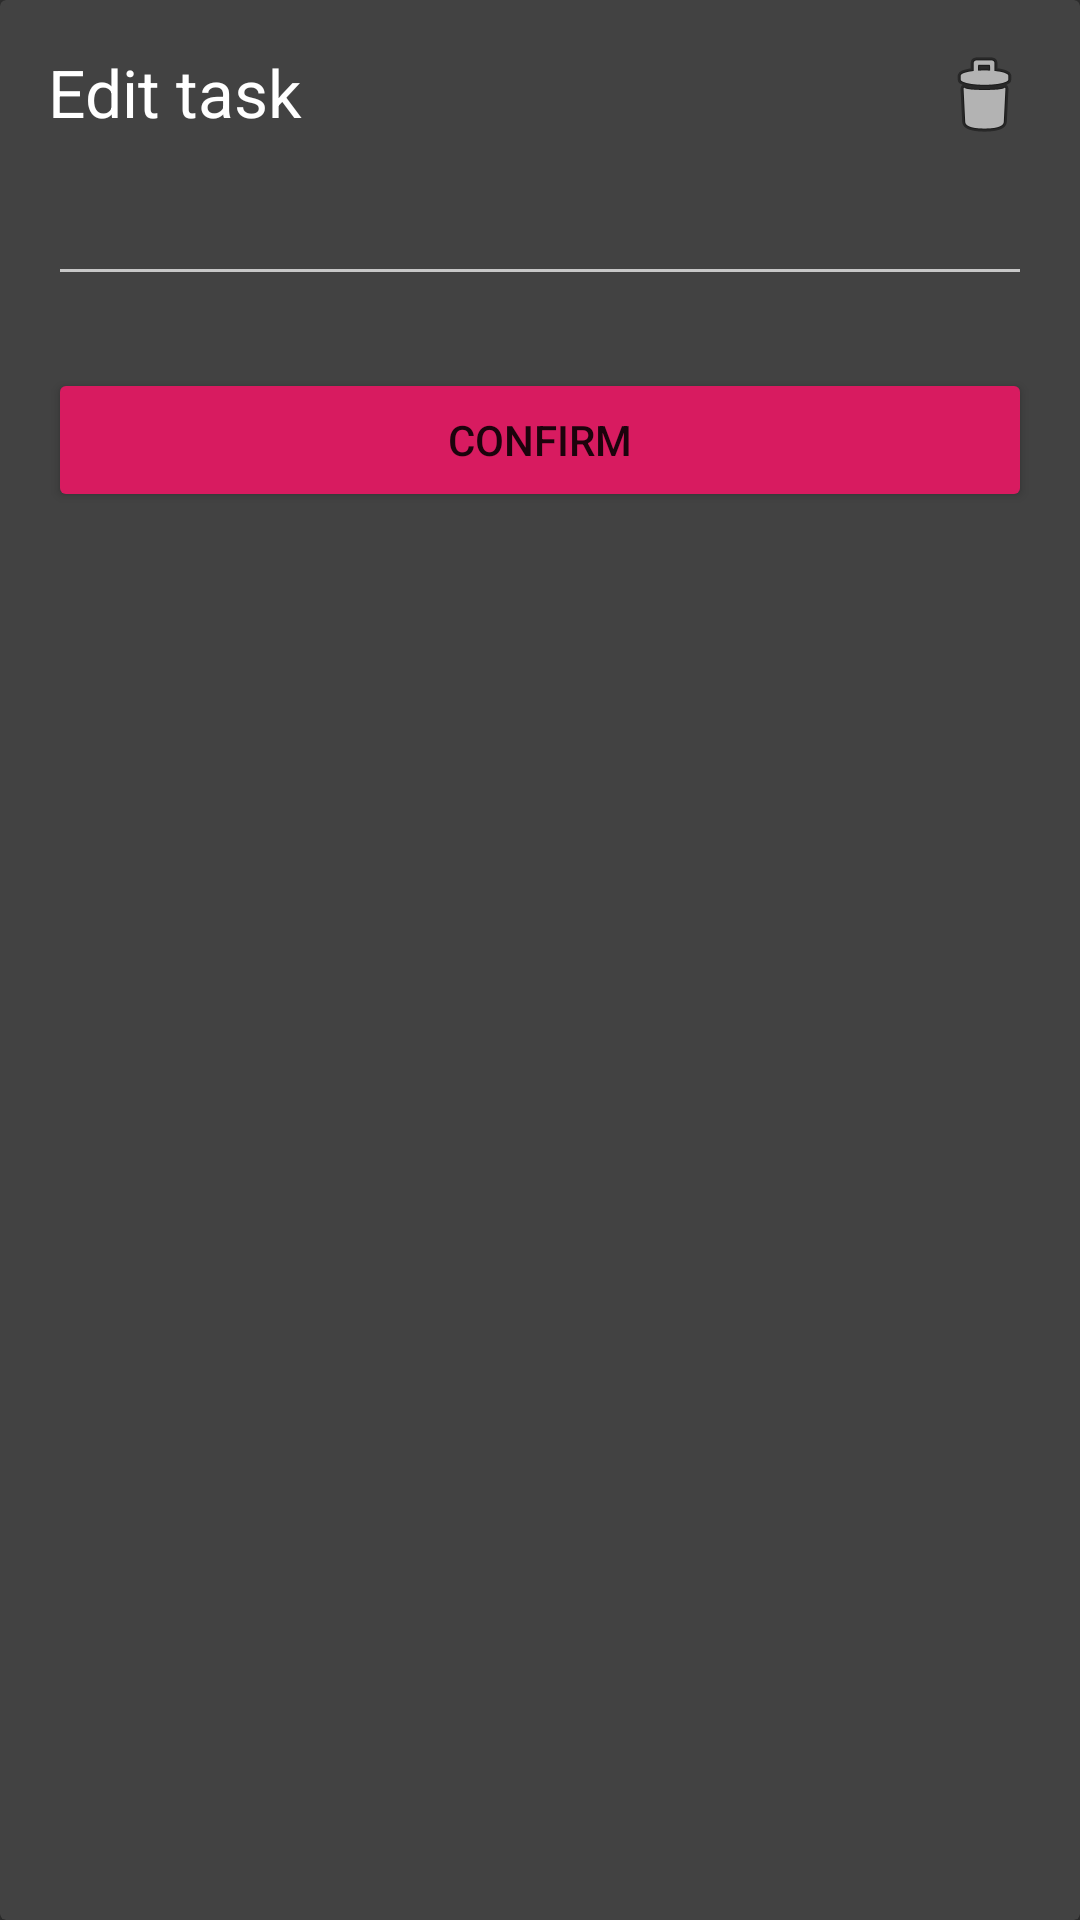

Named icons in this screenshot (1080x1920) and their centers, point (x, y):
delete: point (984, 94)
